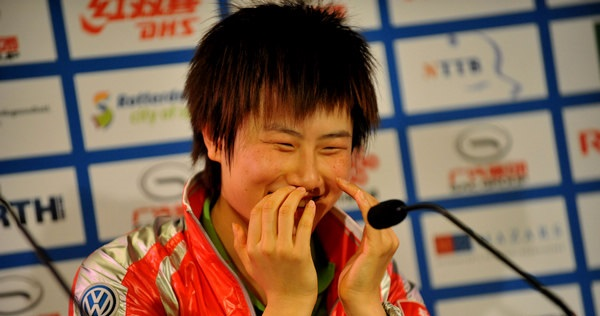face: (234, 98, 354, 232)
